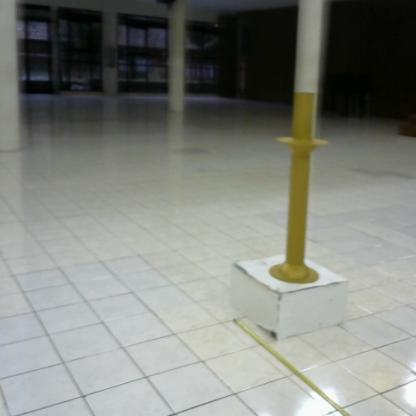pole: (264, 88, 338, 295)
